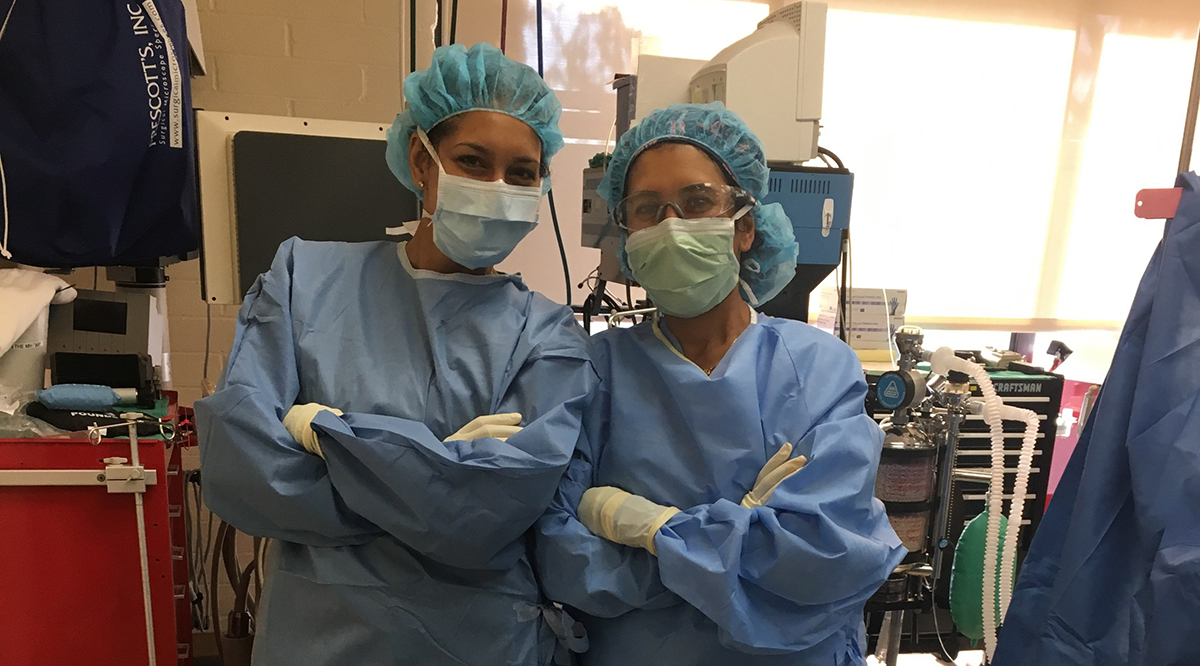with_mask_and_cap: (402, 56, 548, 267), (615, 132, 756, 323)
